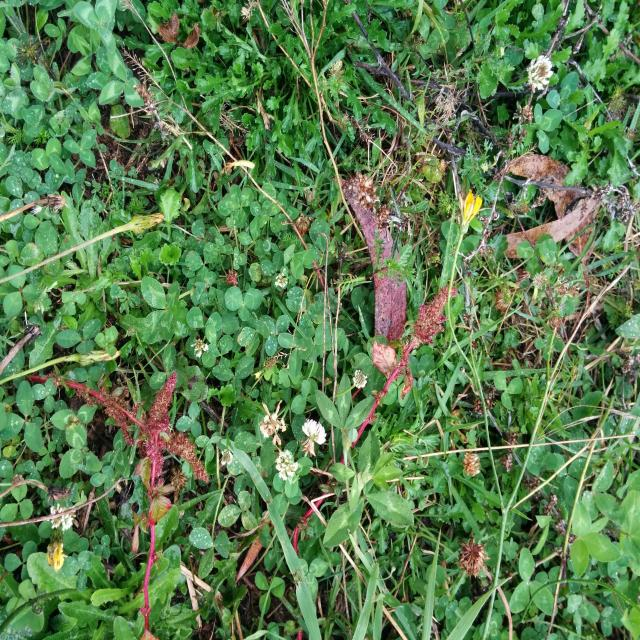Four Leaf Clover: (141, 276, 180, 344)
